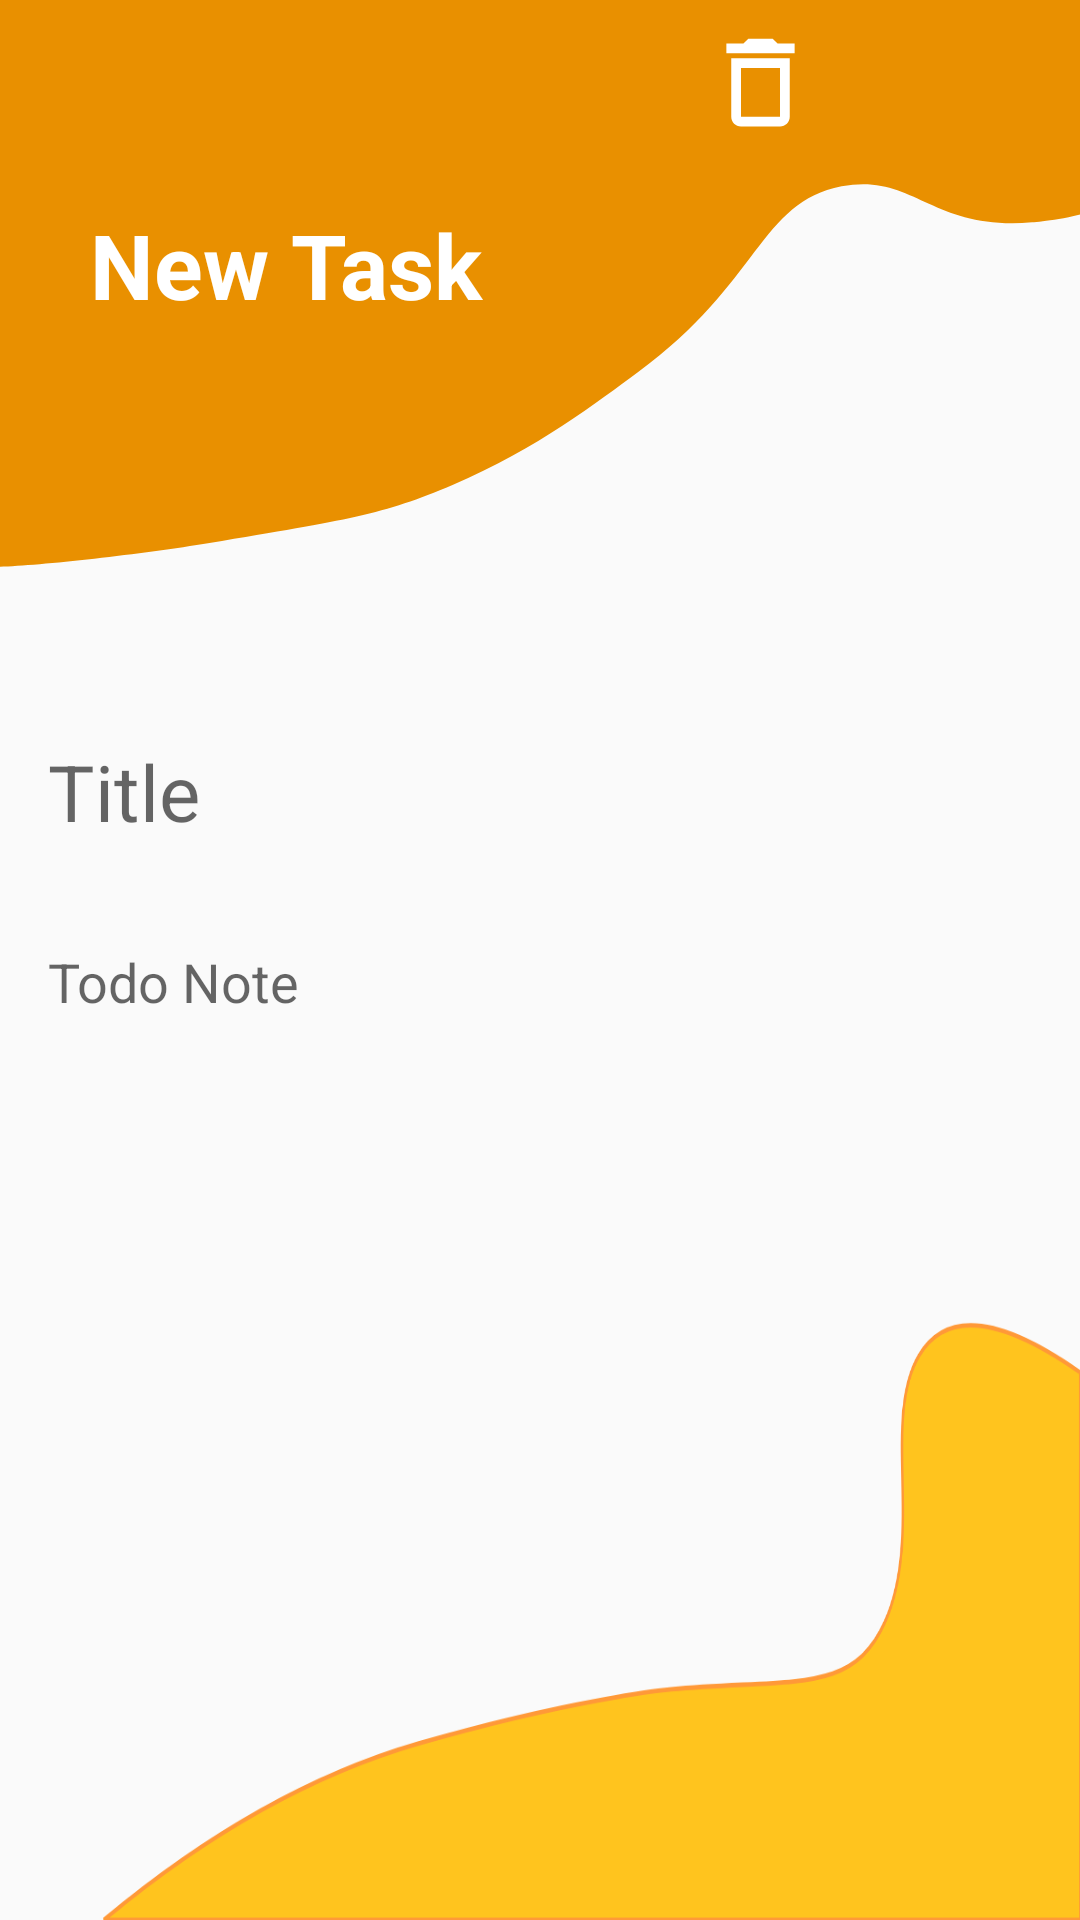

Icon click points for this 1080px×1920px phone screenshot, format (x=x, y=y):
delete: (x=760, y=82)
